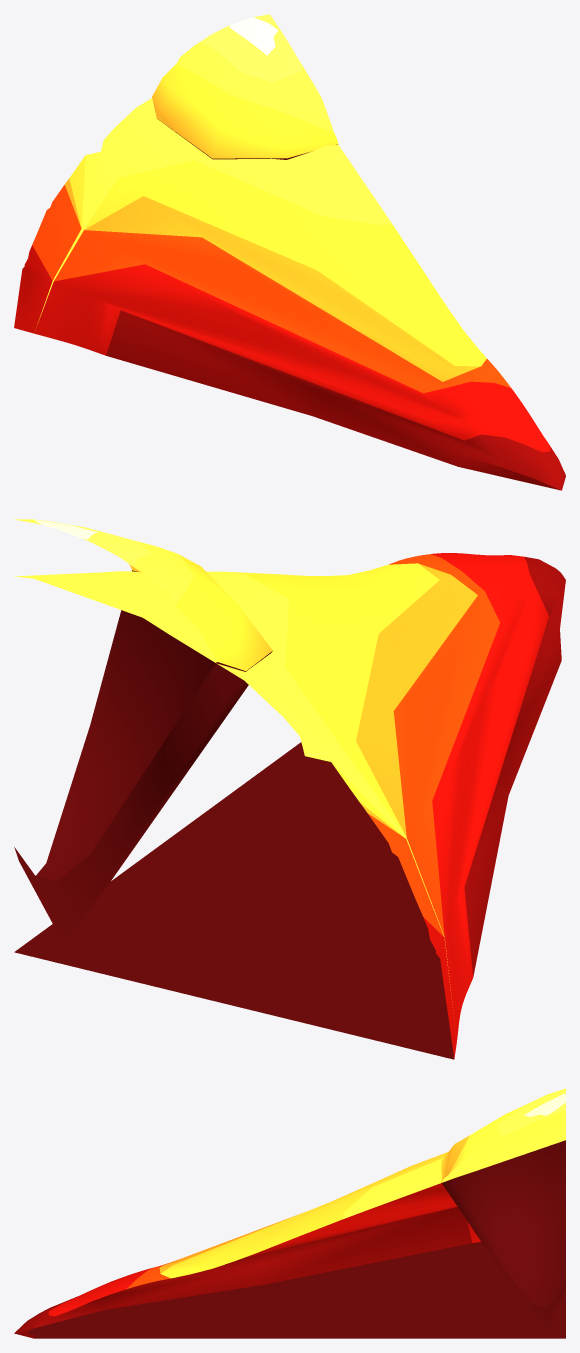
File: shot_dflame_74.glb
3 renders of one model, top to bottom at view 1: azimuth 30°, elevation 25°; view 2: azimuth 150°, elevation 25°; view 3: azimuth 270°, elevation 25°, orthographic. The views are drawn at different scales.
Visible parts, largest first — view 1: dflame_big0_fire_b74, dflame_big0_billow2_b74; view 2: dflame_big0_fire_b74, dflame_big0_billow2_b74; view 3: dflame_big0_fire_b74, dflame_big0_billow2_b74.
Boxes of the visible parts, left/top/right/bottom form: dflame_big0_fire_b74: left=14, top=98, right=565, bottom=490; dflame_big0_billow2_b74: left=152, top=14, right=338, bottom=159; dflame_big0_fire_b74: left=14, top=553, right=565, bottom=1059; dflame_big0_billow2_b74: left=14, top=519, right=272, bottom=945; dflame_big0_fire_b74: left=14, top=1110, right=565, bottom=1338; dflame_big0_billow2_b74: left=441, top=1088, right=565, bottom=1329.
Size of the model in its own units: 6.81 by 6.41 by 14.
